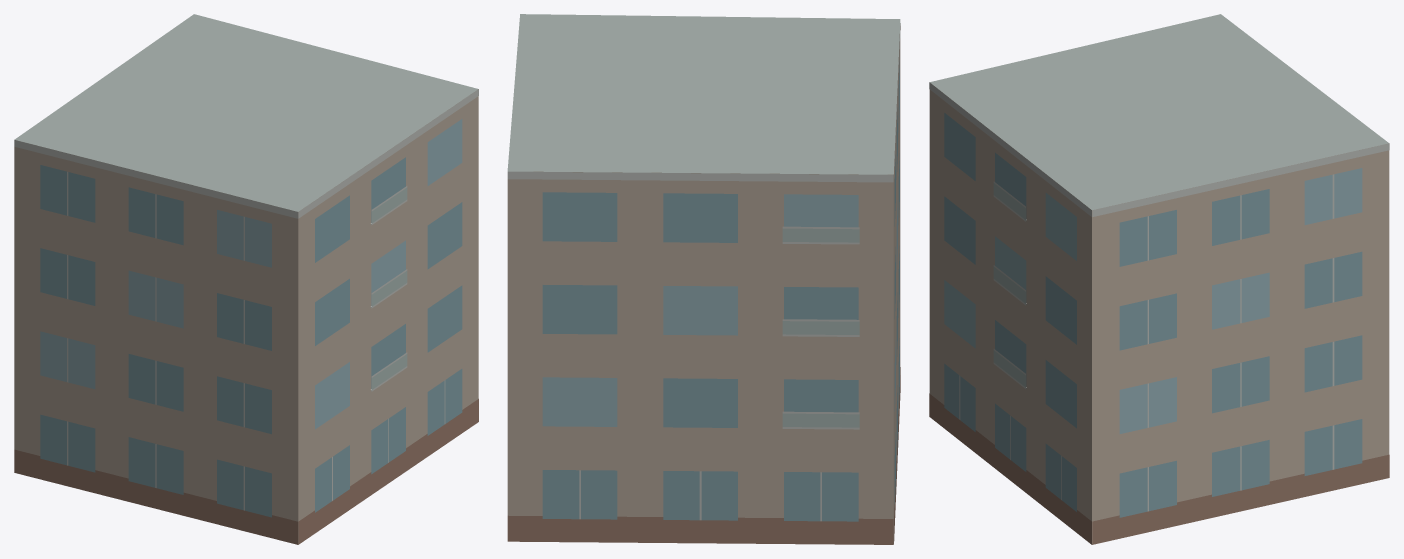
The model's file is survey-upis-32957679.glb.
3 views of the same model, side by side, from view 1: azimuth 30°, elevation 25°; view 2: azimuth 150°, elevation 25°; view 3: azimuth 270°, elevation 25° (orthographic). The views are drawn at different scales.
Visible parts, largest first — view 1: survey-upis-32957679.tmp; view 2: survey-upis-32957679.tmp; view 3: survey-upis-32957679.tmp.
Boxes of the visible parts, left/top/right/bottom form: survey-upis-32957679.tmp: left=14, top=14, right=478, bottom=544; survey-upis-32957679.tmp: left=507, top=14, right=900, bottom=544; survey-upis-32957679.tmp: left=929, top=14, right=1389, bottom=544.
Bounding box in the file's own units: 14.73 × 11.7 × 14.58.
